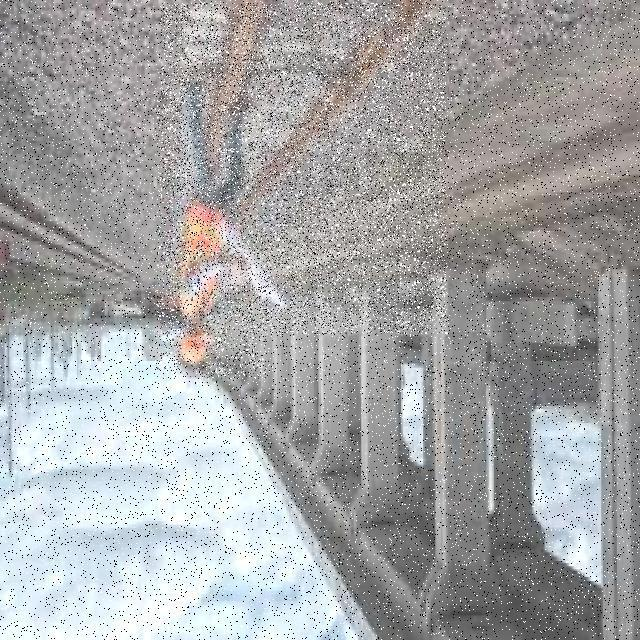danger: (157, 86, 266, 379)
rail: (161, 3, 446, 334)
